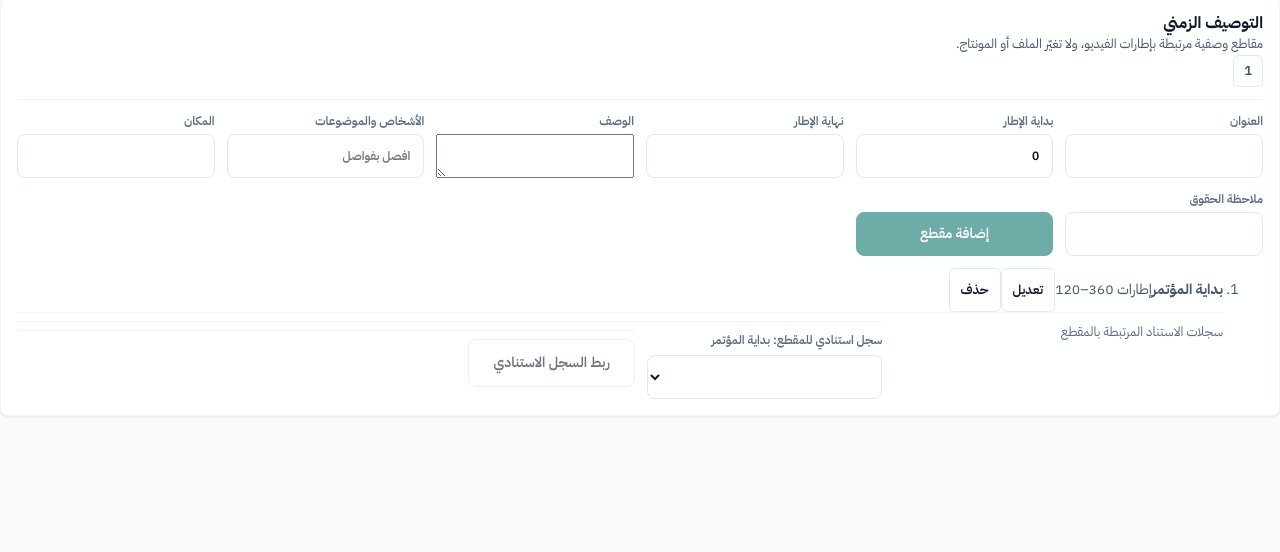
TimedDescriptionSegmentsPanel › links a controlled person to the exact timed segment
The image size is (1280, 552).
Step 1. Select "ليلى حداد" in the dropdown labelled "سجل استنادي للمقطع: بداية المؤتمر" → (765,377), box [647,355,882,399]
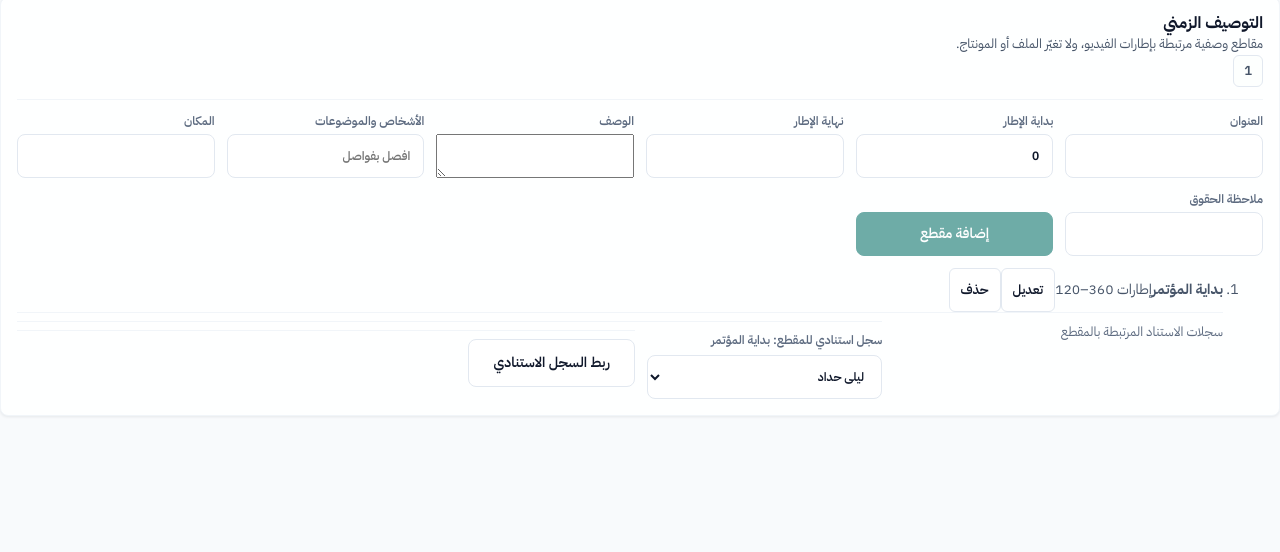
Step 2. Click the button "ربط السجل الاستنادي" → (552,363), box [468,339,635,387]
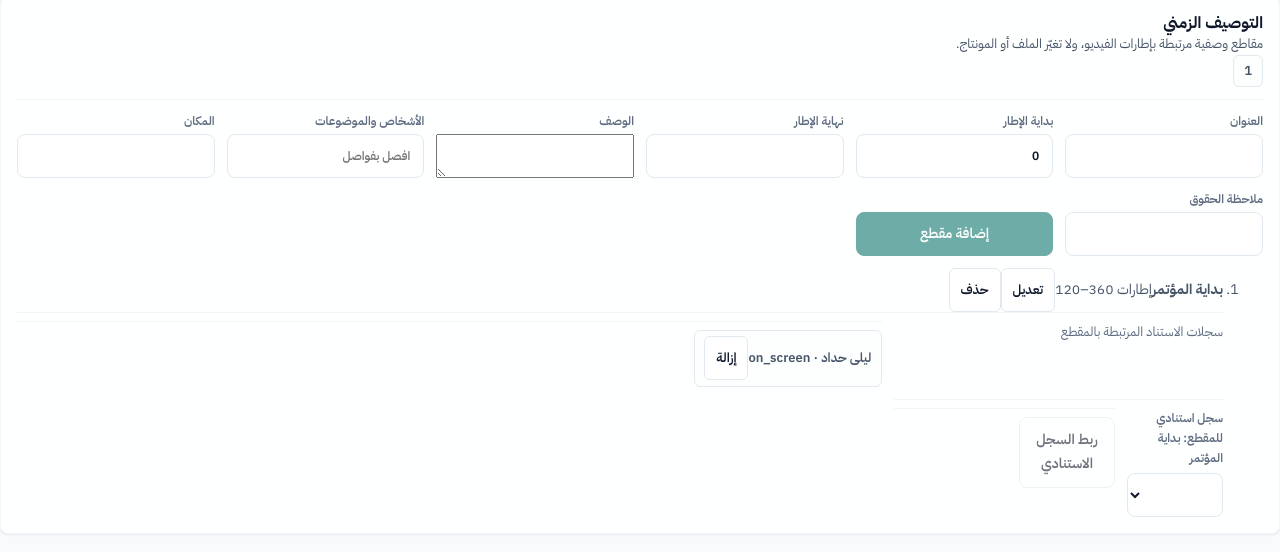
Result: the text "ليلى حداد · on_screen" is shown at [694,330,882,386]
